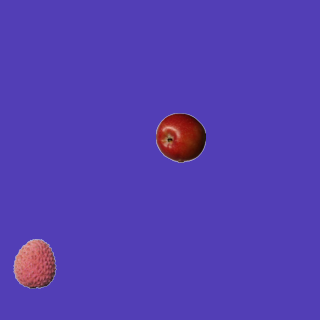Apple Braeburn: (155, 112, 205, 162)
Lychee: (9, 238, 59, 288)
